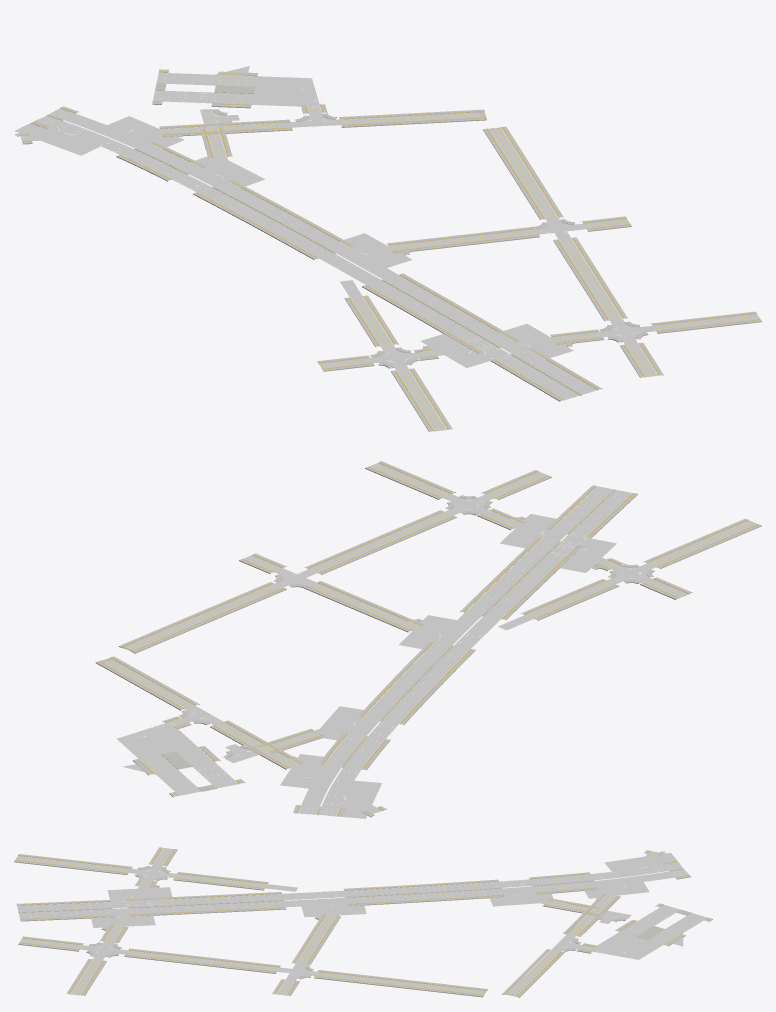
Rendered from roads_3_0.gltf.
3 views of the same model, one above another, from view 1: azimuth 30°, elevation 25°; view 2: azimuth 150°, elevation 25°; view 3: azimuth 270°, elevation 25° (orthographic). The views are drawn at different scales.
Visible parts, largest first — view 1: roads_3_0_SH_wet_asphalt, roads_3_0_SH_sidewalk, roads_3_0_SH_kerb, roads_3_0_Road_Tactile_Strip, roads_3_0_SH_road_marking_white, roads_3_0_SH_road_marking_yellow; view 2: roads_3_0_SH_wet_asphalt, roads_3_0_SH_sidewalk, roads_3_0_SH_kerb, roads_3_0_Road_Tactile_Strip, roads_3_0_SH_road_marking_white, roads_3_0_SH_road_marking_yellow; view 3: roads_3_0_SH_wet_asphalt, roads_3_0_SH_sidewalk, roads_3_0_SH_kerb, roads_3_0_Road_Tactile_Strip, roads_3_0_SH_road_marking_white, roads_3_0_SH_road_marking_yellow.
Boxes of the visible parts, x1,y1,x2,y2 form: roads_3_0_SH_wet_asphalt: [14, 66, 759, 431]; roads_3_0_SH_sidewalk: [15, 69, 761, 431]; roads_3_0_SH_kerb: [17, 72, 759, 431]; roads_3_0_Road_Tactile_Strip: [20, 71, 760, 431]; roads_3_0_SH_road_marking_white: [22, 72, 756, 430]; roads_3_0_SH_road_marking_yellow: [21, 90, 758, 430]; roads_3_0_SH_wet_asphalt: [102, 463, 757, 818]; roads_3_0_SH_sidewalk: [95, 461, 761, 817]; roads_3_0_SH_kerb: [100, 462, 757, 815]; roads_3_0_Road_Tactile_Strip: [99, 462, 758, 815]; roads_3_0_SH_road_marking_white: [102, 463, 752, 815]; roads_3_0_SH_road_marking_yellow: [105, 465, 753, 814]; roads_3_0_SH_wet_asphalt: [15, 848, 707, 996]; roads_3_0_SH_sidewalk: [14, 847, 712, 997]; roads_3_0_SH_kerb: [16, 848, 708, 996]; roads_3_0_Road_Tactile_Strip: [15, 847, 708, 996]; roads_3_0_SH_road_marking_white: [19, 848, 705, 996]; roads_3_0_SH_road_marking_yellow: [17, 848, 656, 995].
Size of what is drawn, in the model's own units: 271 by 0.506 by 572.
